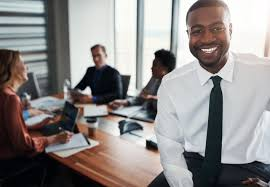F_shirt: (150, 48, 270, 185)
F_tie: (204, 75, 225, 185)
